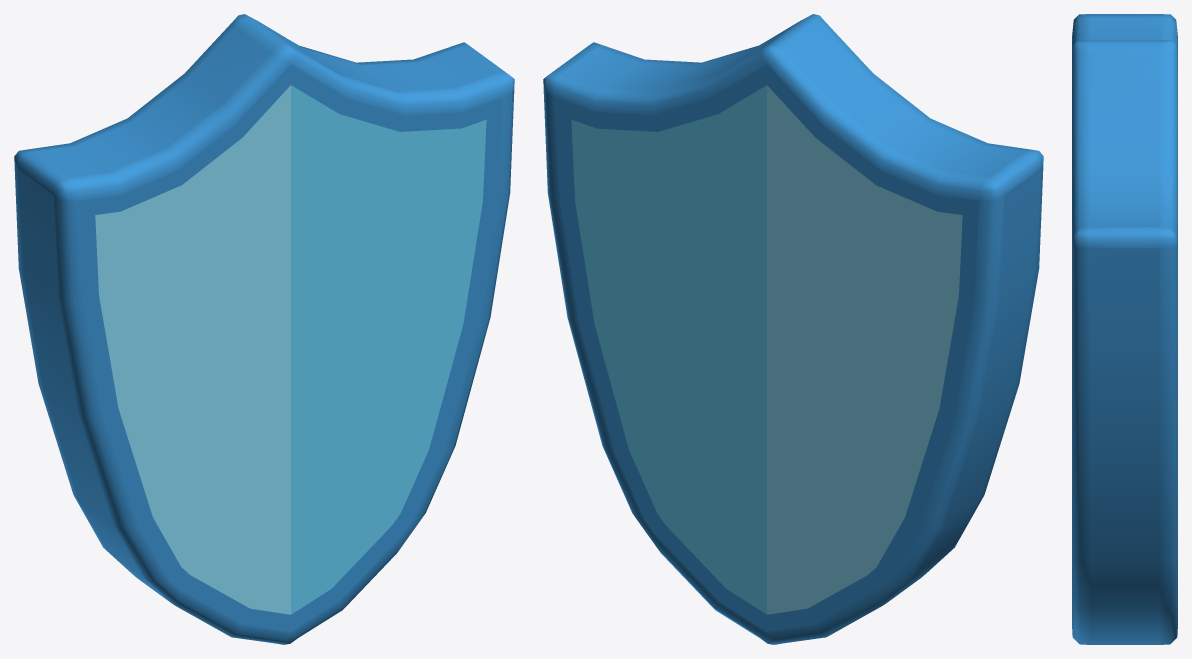
File: Shield.fbx
The picture shows the model from 3 angles, left to right: view 1: azimuth 30°, elevation 25°; view 2: azimuth 150°, elevation 25°; view 3: azimuth 270°, elevation 25°; orthographic projection.
Parts seen in each view (by area): view 1: Shield; view 2: Shield; view 3: Shield.
Part boxes in pixels (left/top/right/bottom): Shield: left=14, top=14, right=514, bottom=644; Shield: left=543, top=14, right=1043, bottom=644; Shield: left=1072, top=14, right=1177, bottom=644.
Bounding box in the file's own units: 180 × 225 × 36.2.
